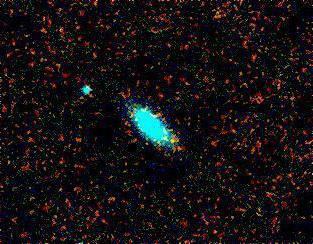star: (158, 126, 188, 156)
